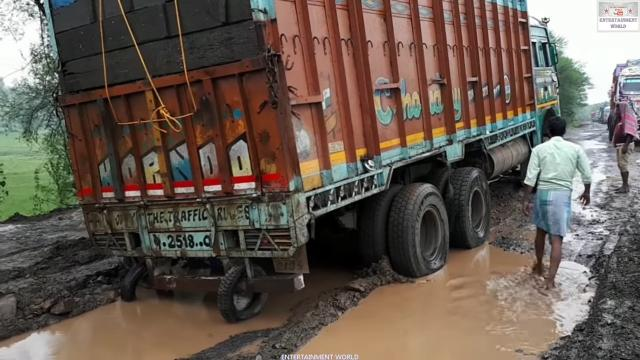truck: (36, 0, 578, 320), (608, 58, 640, 142)
